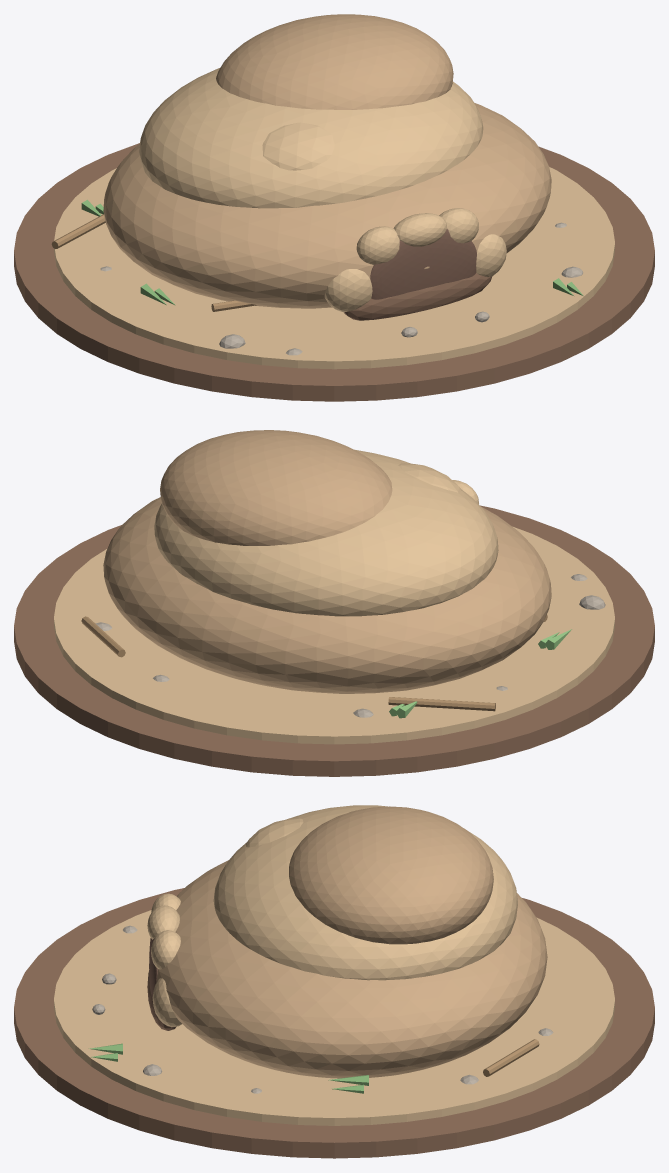
Rendered from anthill_base_v1.glb.
3 renders of one model, top to bottom at view 1: azimuth 30°, elevation 25°; view 2: azimuth 150°, elevation 25°; view 3: azimuth 270°, elevation 25°, orthographic.
Parts seen in each view (by area): view 1: raised_spawn_ring, main_mound_lower, anthill_ground_footprint, main_mound_mid, main_mound_top, main_entrance_dark_arch, entrance_floor_shadow, side_soil_lump_left, entrance_lip_lump_0, entrance_lip_lump_3, entrance_lip_lump_2, entrance_lip_lump_1 (+1 smaller); view 2: main_mound_lower, raised_spawn_ring, anthill_ground_footprint, main_mound_mid, main_mound_top, tiny_twig_0, side_soil_lump_left, tiny_twig_1; view 3: raised_spawn_ring, main_mound_lower, anthill_ground_footprint, main_mound_top, main_mound_mid, entrance_lip_lump_4, side_soil_lump_left, entrance_lip_lump_3, entrance_lip_lump_1, tiny_twig_1.
Part boxes in pixels (bbox=[...]): raised_spawn_ring: bbox=[54, 167, 614, 369]; main_mound_lower: bbox=[103, 103, 551, 308]; anthill_ground_footprint: bbox=[14, 143, 654, 401]; main_mound_mid: bbox=[139, 68, 483, 208]; main_mound_top: bbox=[216, 14, 453, 109]; main_entrance_dark_arch: bbox=[370, 228, 476, 299]; entrance_floor_shadow: bbox=[344, 273, 492, 320]; side_soil_lump_left: bbox=[262, 122, 334, 170]; entrance_lip_lump_0: bbox=[324, 269, 372, 312]; entrance_lip_lump_3: bbox=[393, 213, 446, 246]; entrance_lip_lump_2: bbox=[356, 226, 399, 264]; entrance_lip_lump_1: bbox=[476, 234, 506, 276]; main_mound_lower: bbox=[103, 497, 551, 693]; raised_spawn_ring: bbox=[54, 526, 614, 744]; anthill_ground_footprint: bbox=[14, 505, 654, 776]; main_mound_mid: bbox=[154, 449, 498, 616]; main_mound_top: bbox=[160, 430, 392, 545]; tiny_twig_0: bbox=[388, 697, 495, 711]; side_soil_lump_left: bbox=[398, 462, 461, 492]; tiny_twig_1: bbox=[81, 616, 125, 657]; raised_spawn_ring: bbox=[54, 910, 614, 1125]; main_mound_lower: bbox=[156, 860, 547, 1078]; anthill_ground_footprint: bbox=[14, 888, 654, 1158]; main_mound_top: bbox=[289, 806, 493, 944]; main_mound_mid: bbox=[213, 805, 517, 980]; entrance_lip_lump_4: bbox=[151, 930, 180, 969]; side_soil_lump_left: bbox=[246, 818, 303, 847]; entrance_lip_lump_3: bbox=[147, 905, 179, 939]; entrance_lip_lump_1: bbox=[152, 978, 181, 1026]; tiny_twig_1: bbox=[483, 1039, 539, 1076].
Size of the model in its own units: 3.7 by 1.36 by 3.7.
